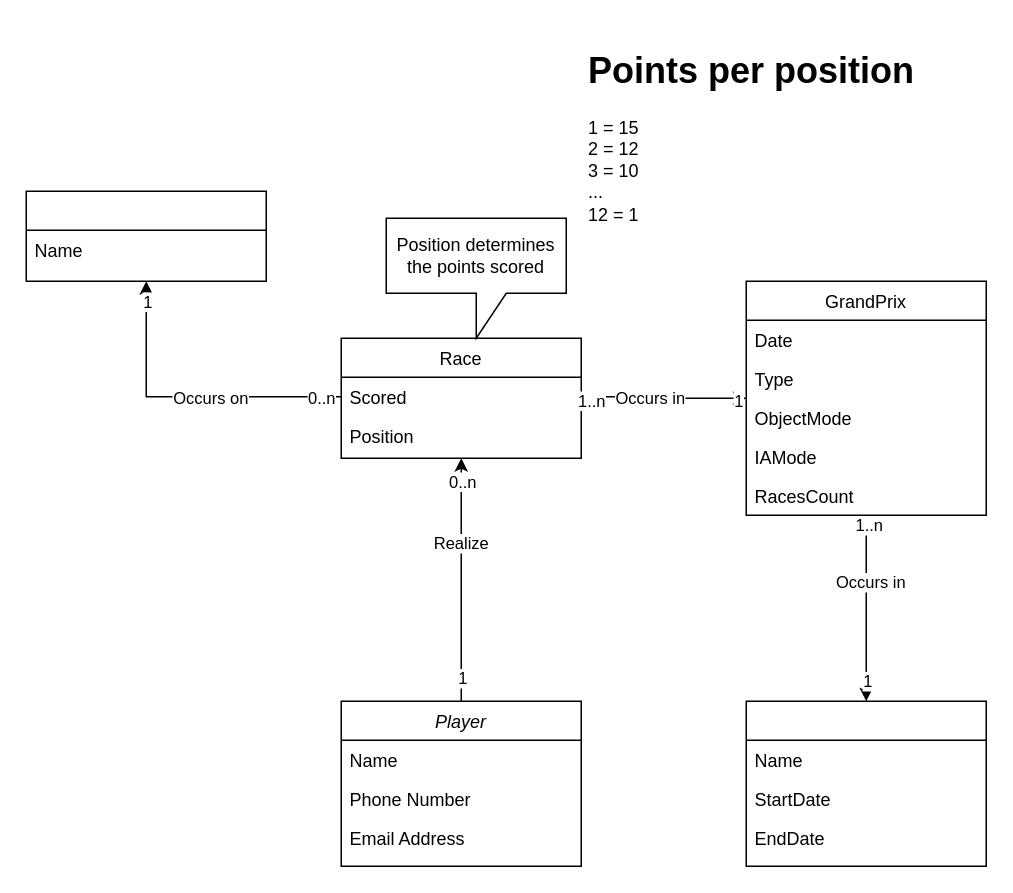
This 1013x893 diagram has some shape labels left out. Here are the shapes that lost their labels. From the top down, the box of each, then its label:
(25, 190, 266, 281): Map
(745, 700, 986, 866): Tournament
